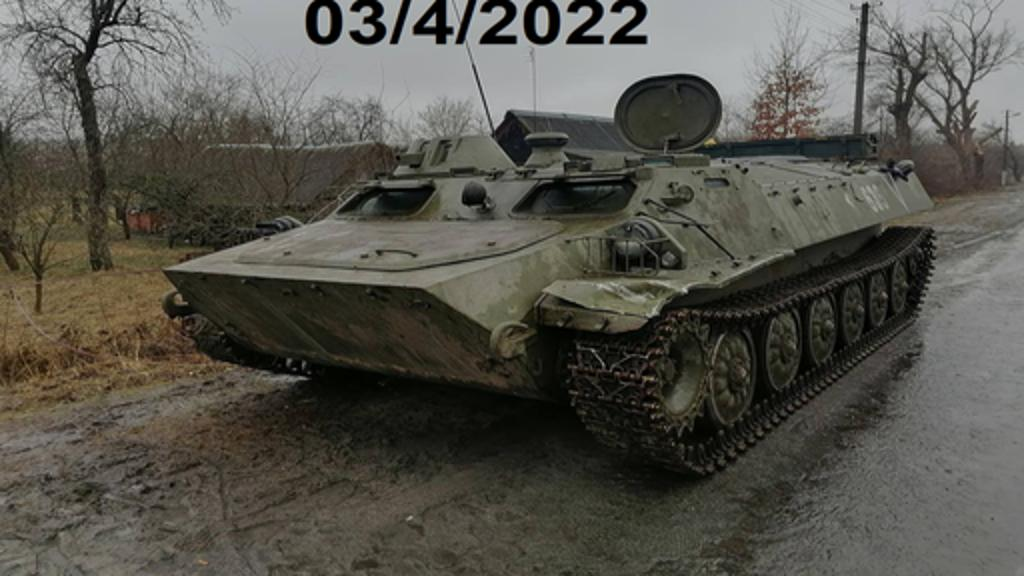APC-IFV: (148, 72, 938, 488)
